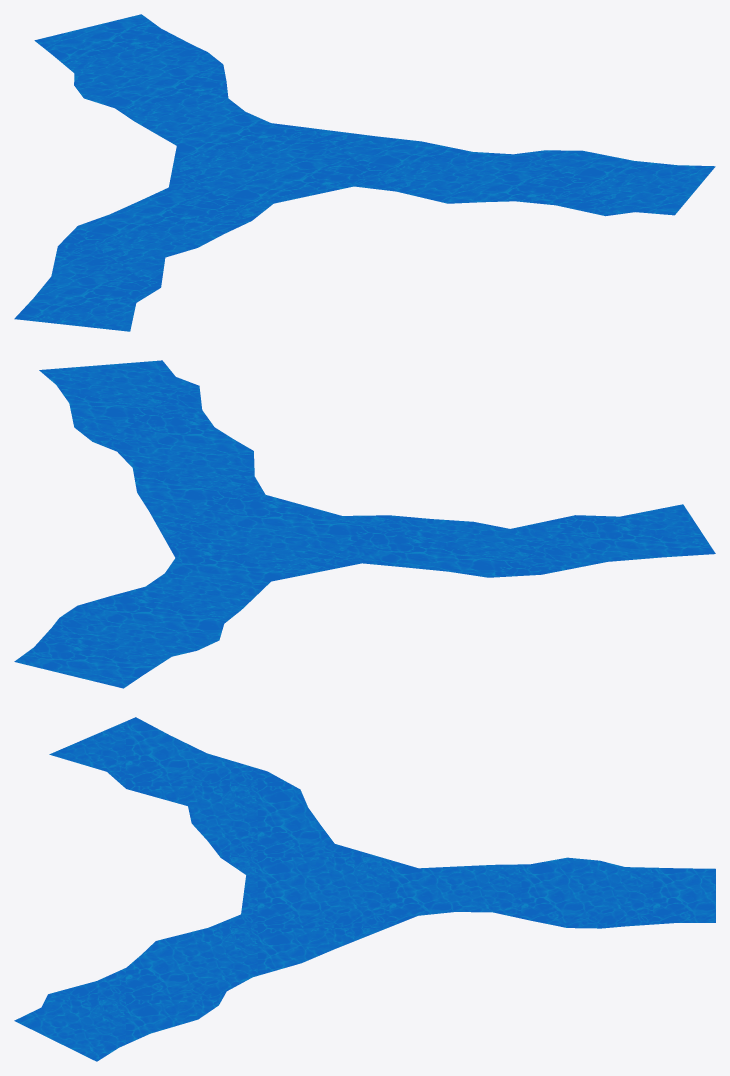
Rendered from River1.glb.
3 views of the same model, one above another, from view 1: azimuth 30°, elevation 25°; view 2: azimuth 150°, elevation 25°; view 3: azimuth 270°, elevation 25° (orthographic). The views are drawn at different scales.
Parts seen in each view (by area): view 1: River1; view 2: River1; view 3: River1.
Boxes of the visible parts, x1=… form: River1: x1=14, y1=14, x2=715, y2=331; River1: x1=14, y1=360, x2=715, y2=688; River1: x1=14, y1=717, x2=715, y2=1061.
Size of the model in its own units: 7.78 by 0 by 6.69.
Materials: 1 (1 with a texture image).
